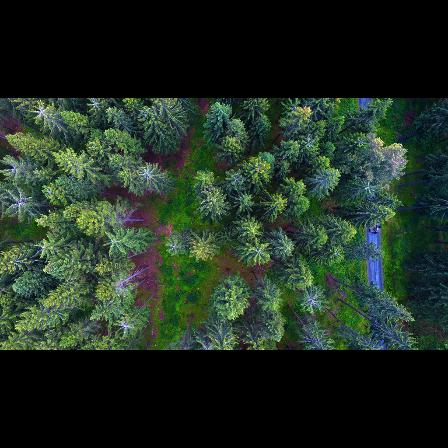Sick: (0, 186, 40, 223), (130, 159, 161, 190), (110, 314, 138, 342), (298, 288, 325, 315), (28, 101, 55, 126), (355, 177, 380, 198), (163, 237, 184, 258)
